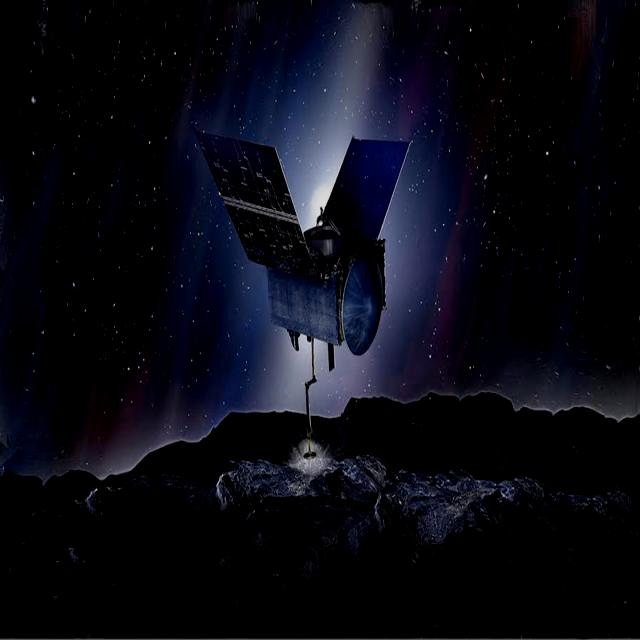satellite: (195, 120, 421, 387)
